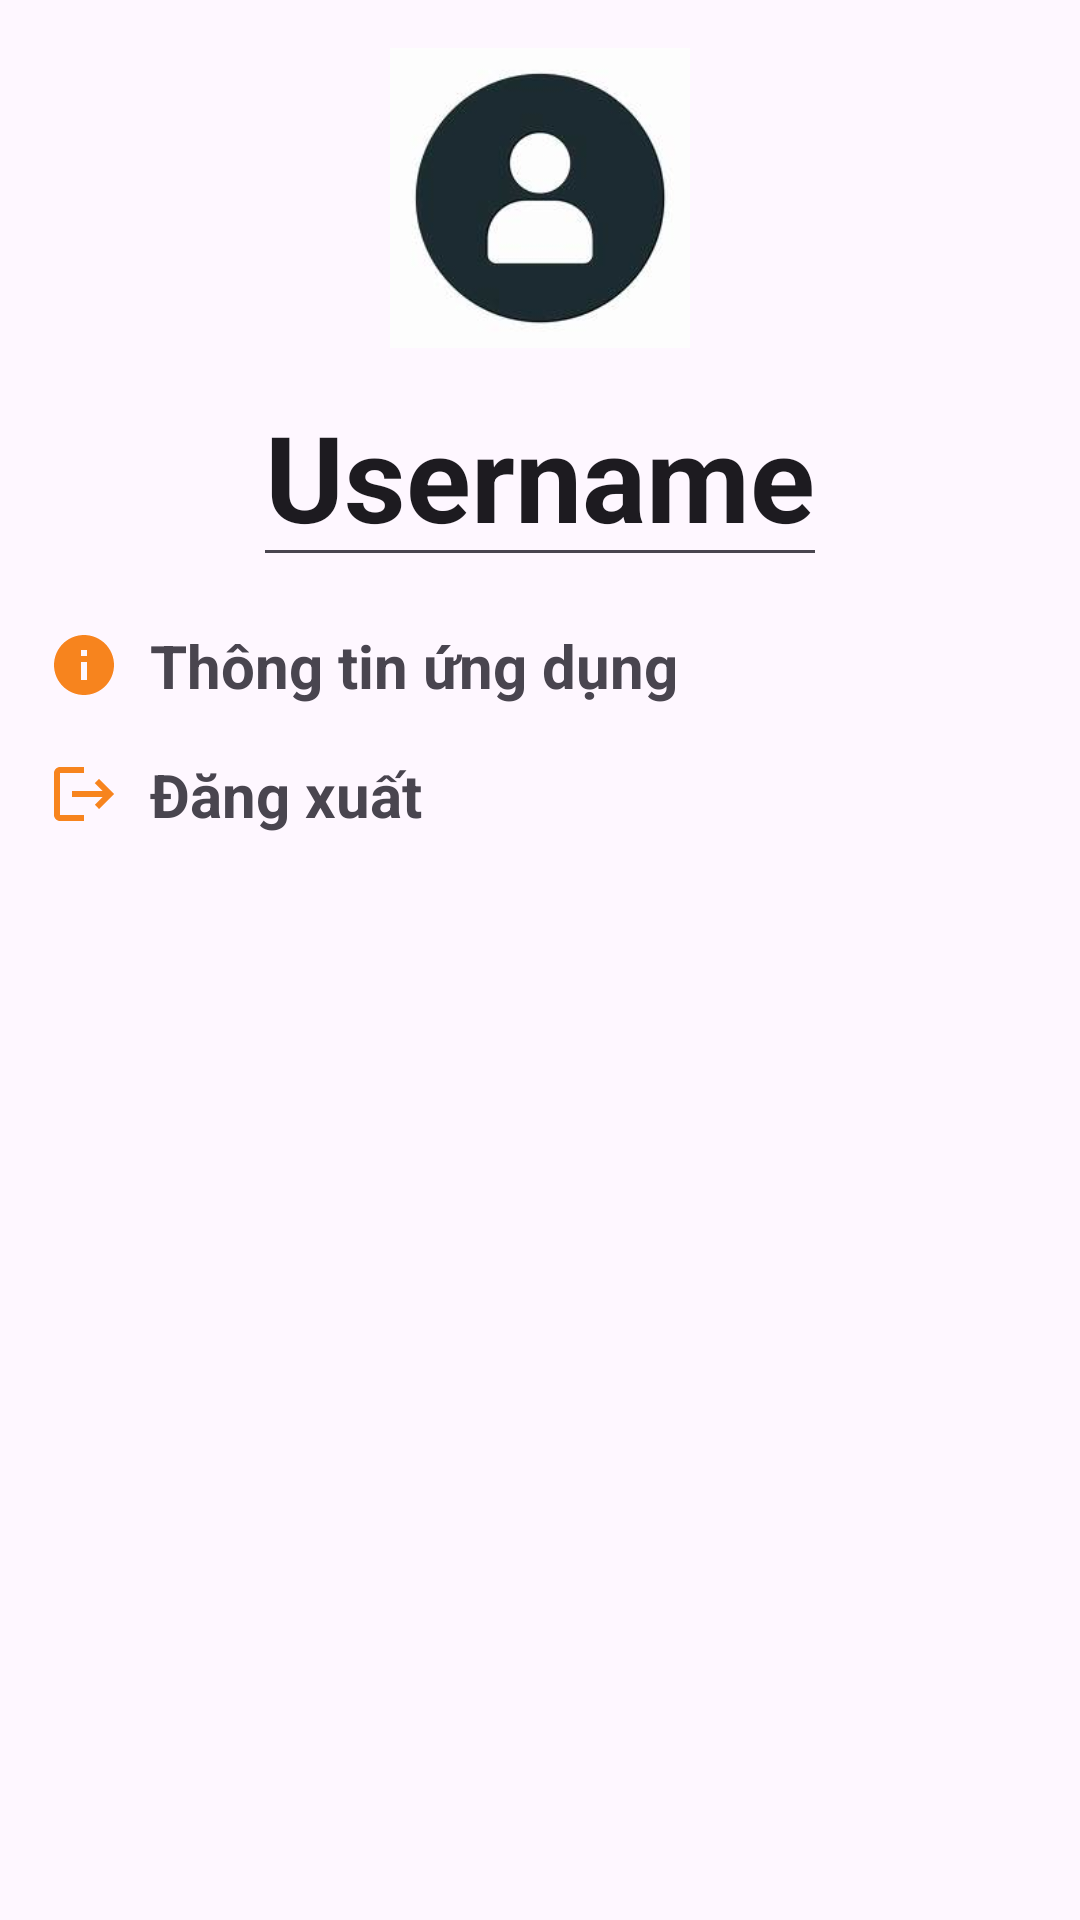

Screen size 1080px x 1920px. Icon name, then its box in pixels as (left=x1, top=y1, right=x2, bottom=y2):
userimage: (left=415, top=73, right=666, bottom=324)
